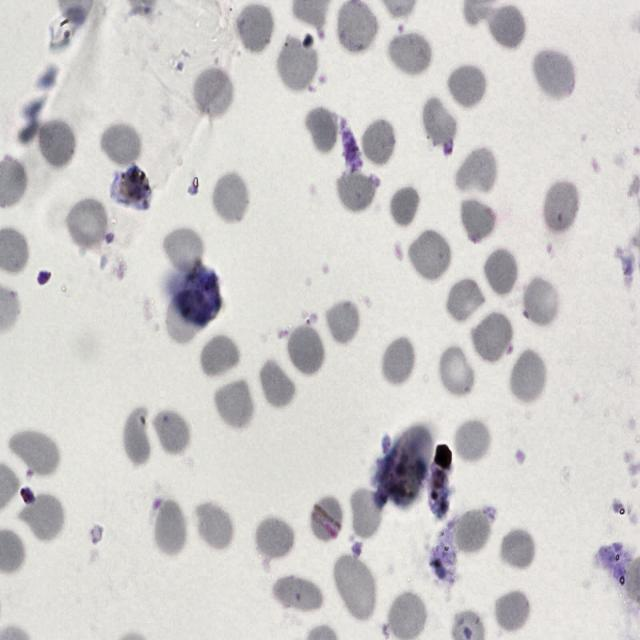difficult: (307, 494, 346, 544)
red blood cell: (331, 552, 377, 622), (406, 226, 453, 284), (274, 32, 319, 90), (5, 429, 60, 476), (530, 46, 576, 102), (470, 308, 515, 365), (538, 181, 583, 238), (190, 65, 234, 123), (34, 114, 78, 170), (284, 321, 326, 378), (191, 496, 235, 550), (520, 272, 562, 328), (65, 196, 110, 248), (436, 343, 477, 400), (254, 353, 296, 408), (19, 494, 66, 543), (508, 347, 547, 406), (212, 377, 255, 430), (234, 0, 275, 55), (387, 30, 433, 79), (484, 1, 528, 52), (211, 171, 251, 226), (148, 408, 190, 460), (337, 1, 378, 54), (99, 120, 142, 170), (253, 514, 295, 565), (446, 276, 486, 329), (454, 147, 498, 195), (152, 496, 186, 558), (445, 61, 488, 110), (451, 418, 494, 467), (199, 333, 241, 383), (379, 335, 418, 388), (497, 526, 537, 575), (458, 195, 498, 244), (303, 104, 342, 154), (162, 225, 204, 271), (388, 591, 428, 638), (386, 180, 423, 230), (325, 300, 364, 347), (272, 576, 322, 612), (360, 118, 398, 164), (350, 486, 382, 540), (481, 249, 518, 295), (122, 409, 152, 465), (424, 97, 458, 146), (454, 511, 491, 555), (494, 584, 528, 630), (337, 173, 376, 211)
